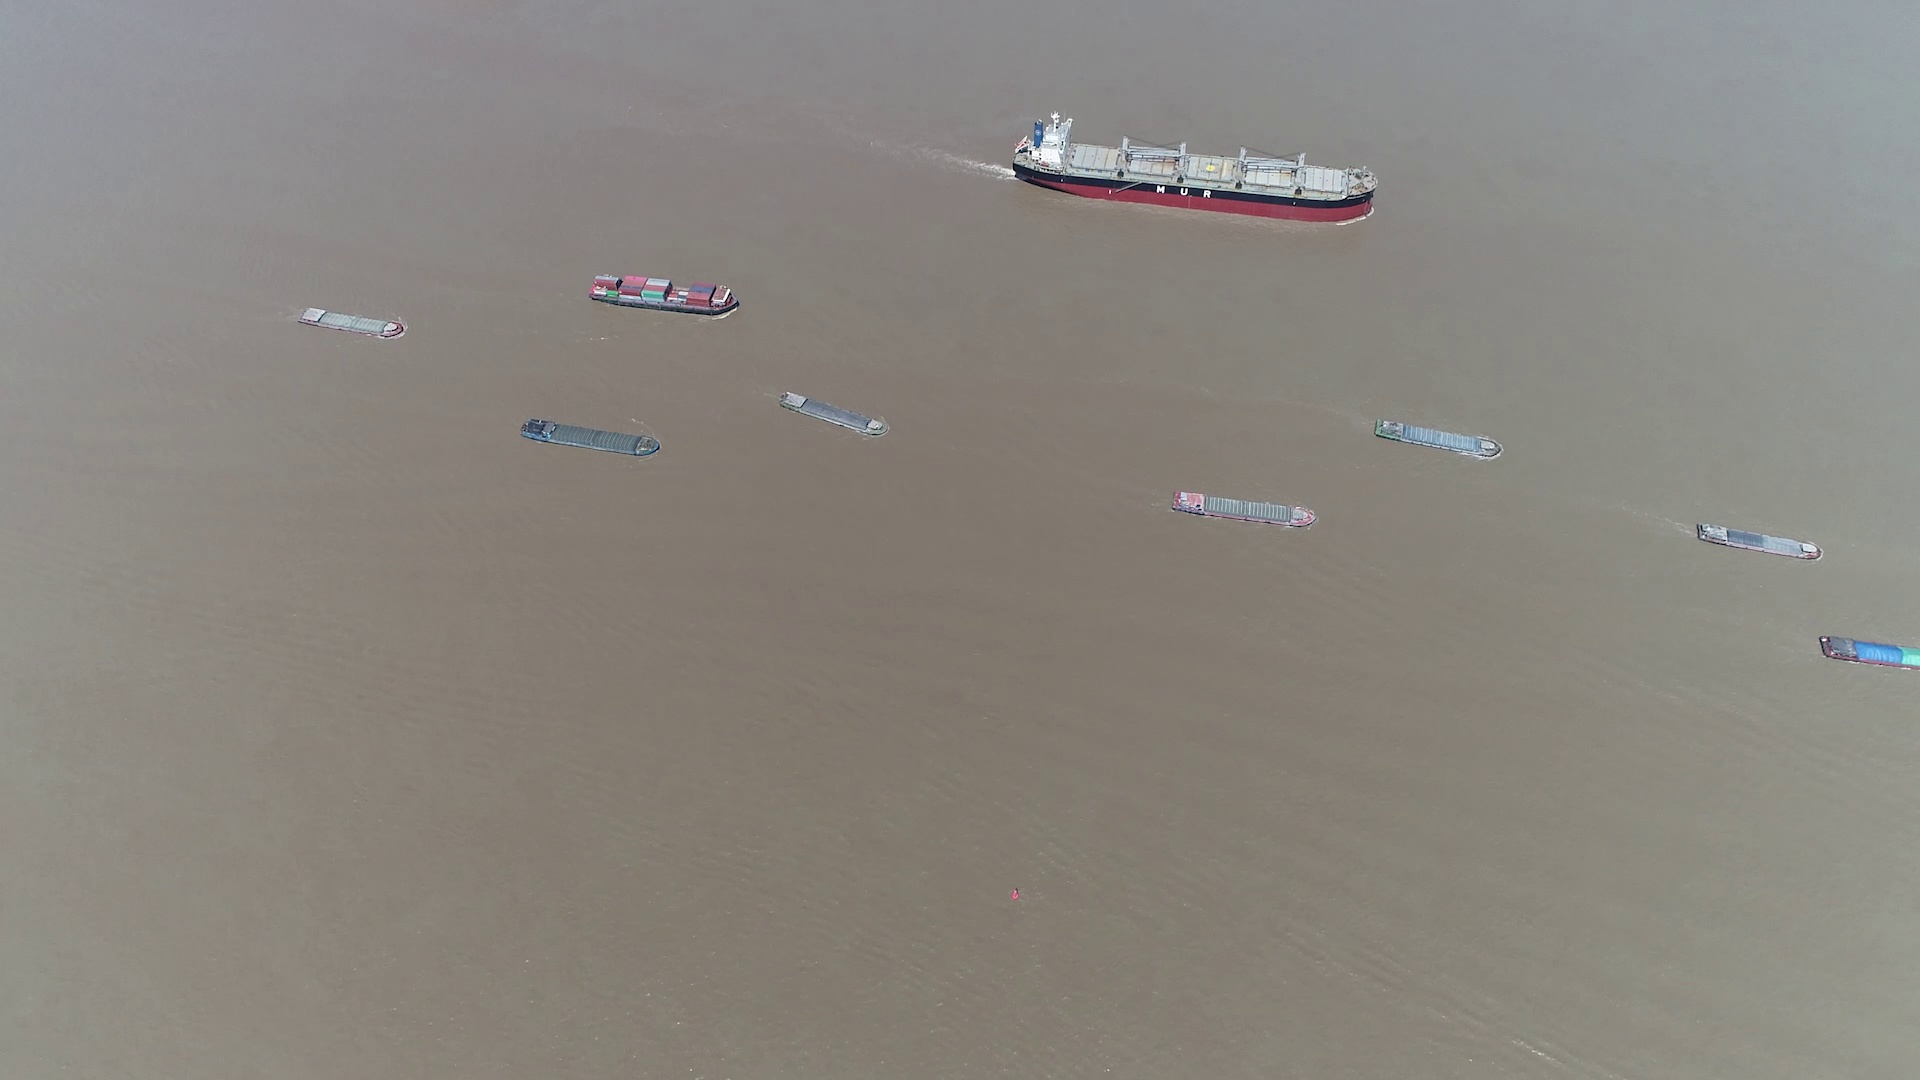ship: (1009, 115, 1375, 222), (588, 274, 740, 314), (1373, 417, 1505, 460), (1168, 489, 1312, 529), (524, 418, 661, 458), (779, 392, 891, 439), (1696, 521, 1824, 560), (297, 306, 407, 338), (1821, 636, 1919, 671)
